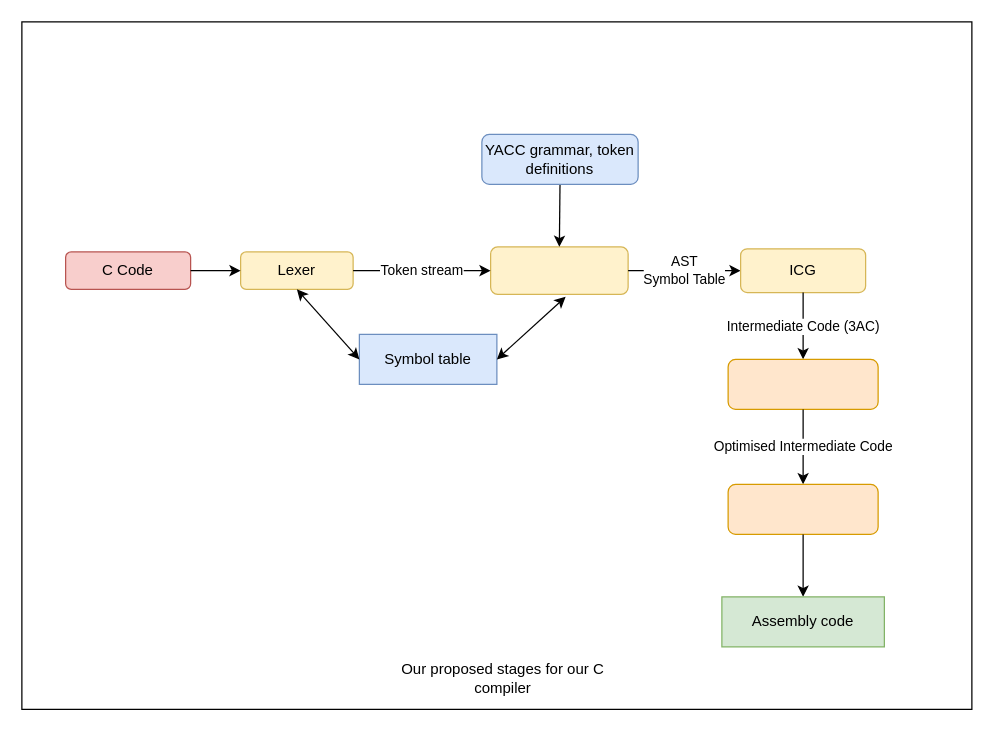
The diagram is 994 pixels wide and 731 high, and some of its shapes have lost their labels. Each missing label, with the box of its shape:
Assembly code generator (Java): (727, 483, 878, 534)
Intermediate Code Optimizer (Java): (727, 358, 878, 409)
Parser: (489, 246, 628, 294)
